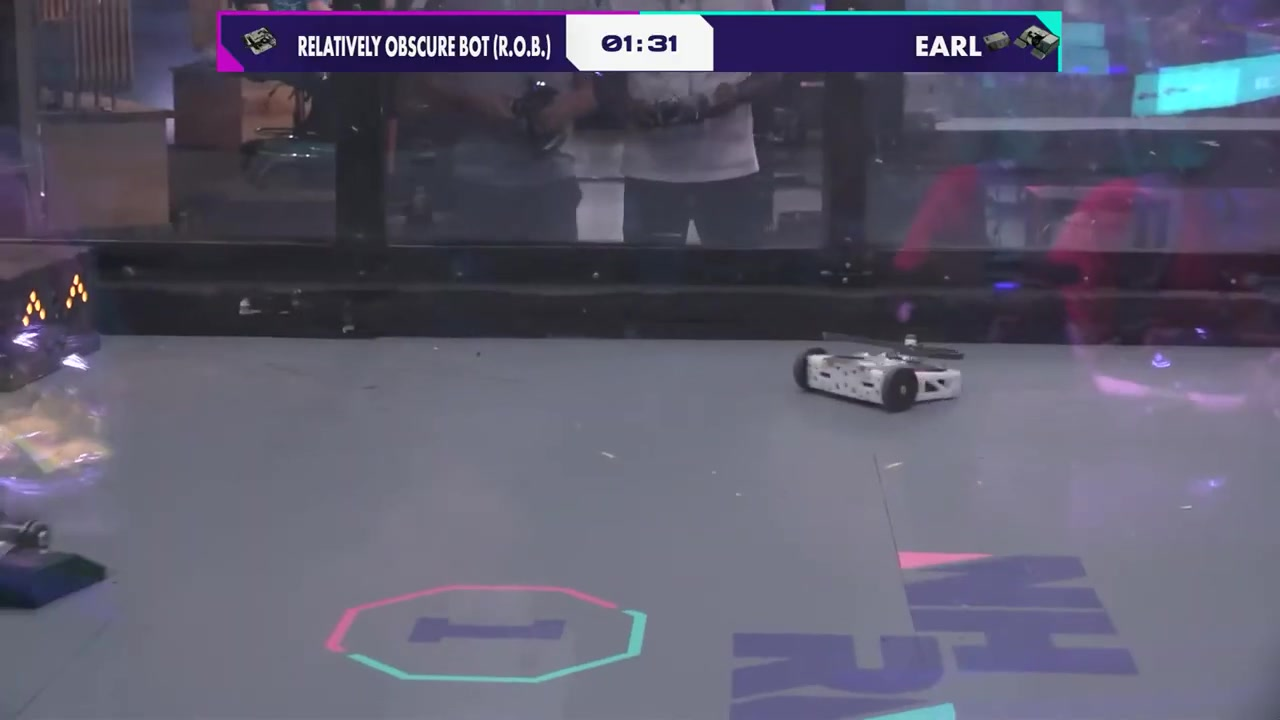combatbot: (796, 344, 965, 416), (0, 518, 111, 616)
housebot: (0, 240, 100, 398)
